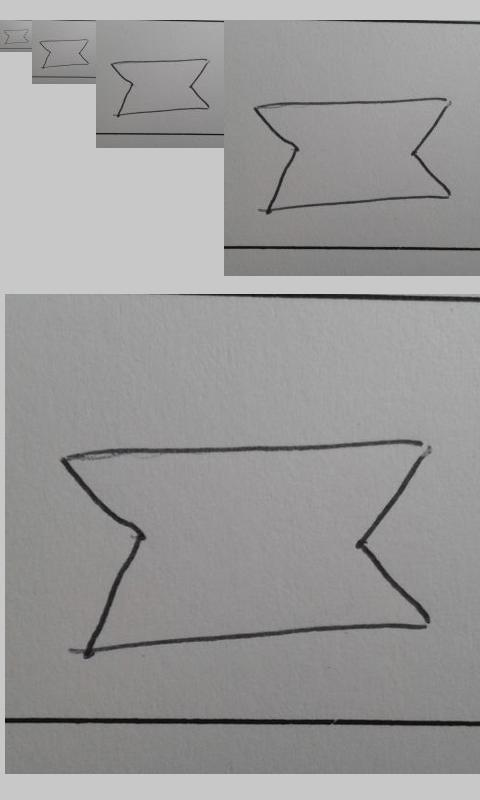edit_text: (63, 437, 431, 652), (253, 97, 454, 212), (110, 58, 211, 117), (39, 39, 89, 70), (3, 29, 29, 44)
